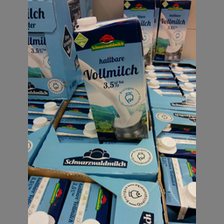milk: (74, 17, 152, 143), (158, 1, 187, 63)
